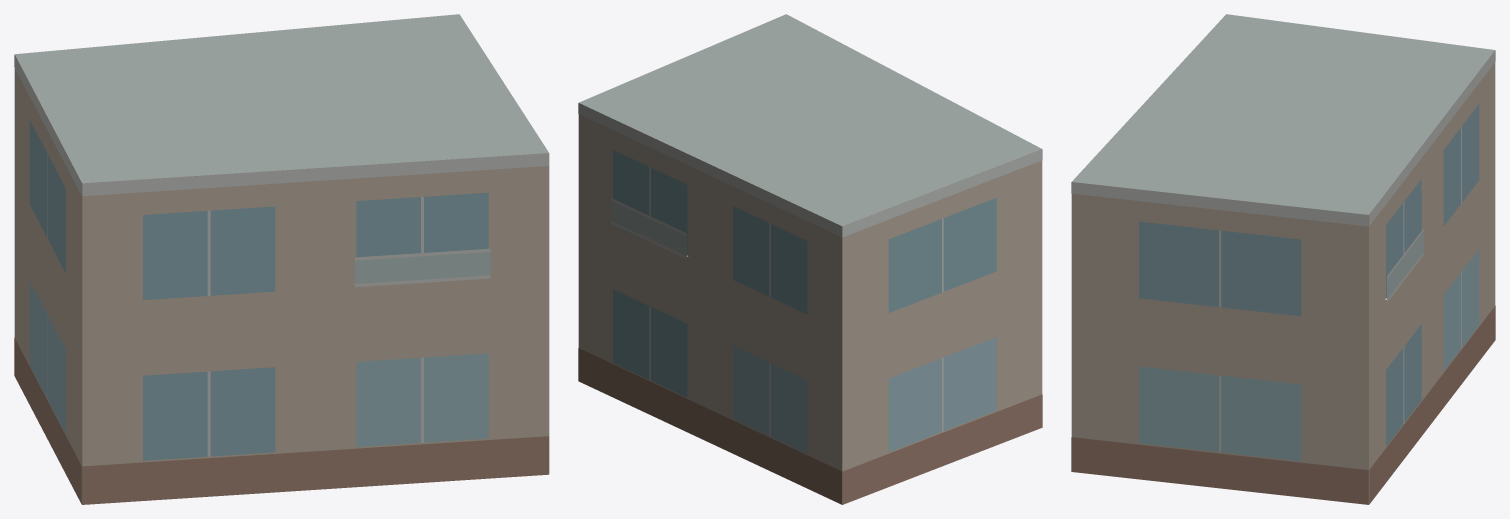
File: survey-upis-32969778.glb
3 views of the same model, side by side, from view 1: azimuth 30°, elevation 25°; view 2: azimuth 150°, elevation 25°; view 3: azimuth 270°, elevation 25° (orthographic). The views are drawn at different scales.
Parts seen in each view (by area): view 1: survey-upis-32969778.tmp; view 2: survey-upis-32969778.tmp; view 3: survey-upis-32969778.tmp.
Boxes of the visible parts, <box> form: survey-upis-32969778.tmp: <box>14,14,549,504</box>; survey-upis-32969778.tmp: <box>578,14,1042,504</box>; survey-upis-32969778.tmp: <box>1071,14,1495,504</box>.
Bounding box in the file's own units: 9.08 × 6.1 × 8.1.
